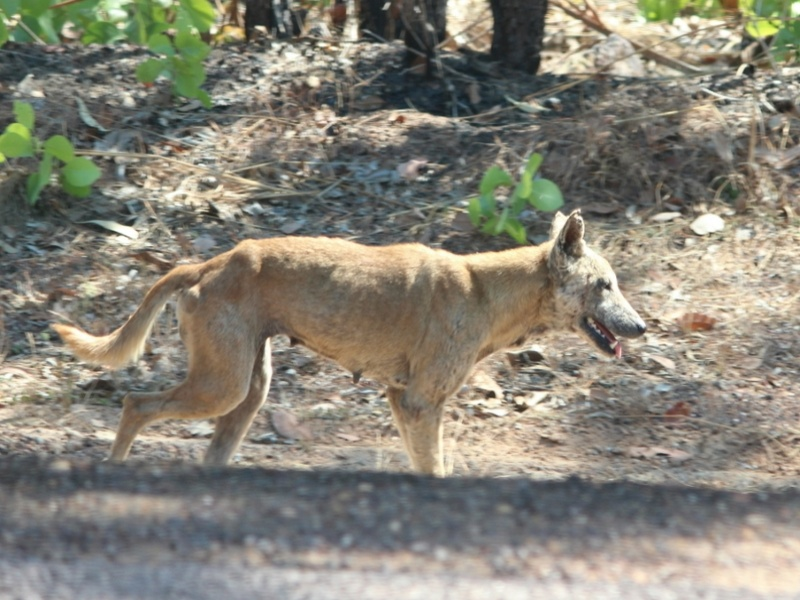dog: (58, 201, 652, 472)
